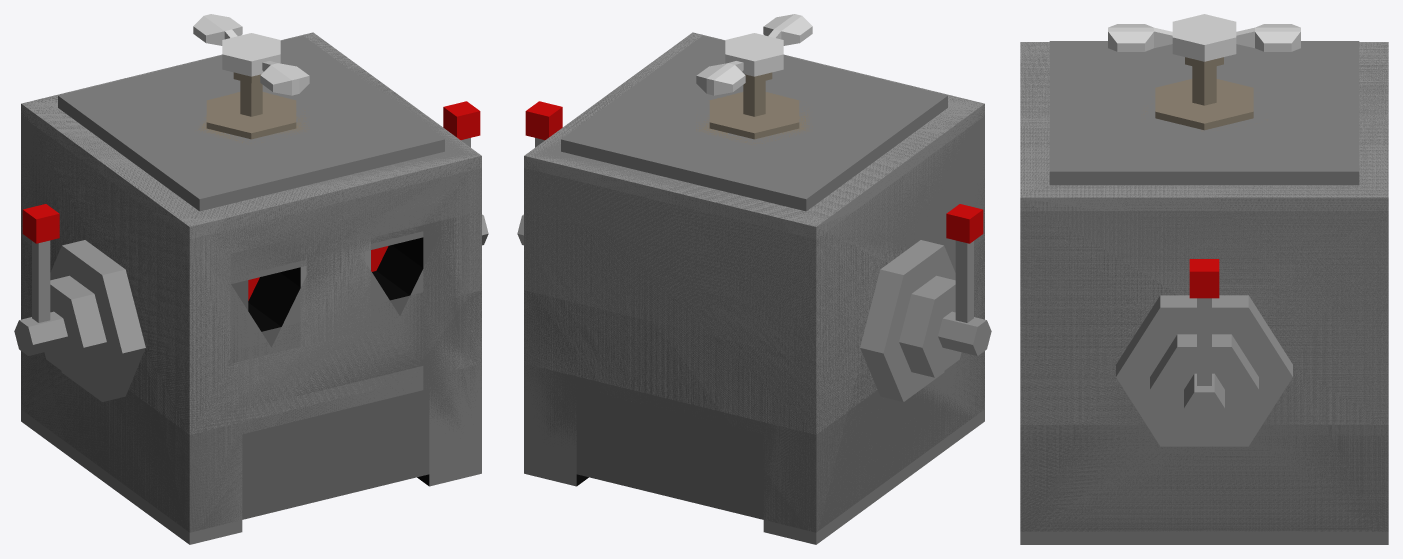
Rendered from Robot heads.fbx.
3 renders of one model, left to right at view 1: azimuth 30°, elevation 25°; view 2: azimuth 150°, elevation 25°; view 3: azimuth 270°, elevation 25°, orthographic. The views are drawn at different scales.
Visible parts, largest first — view 1: Angie, Tom, Bobby, Jack, Fan; view 2: Tom, Angie, Jack, Bobby, Fan; view 3: Angie, Tom, Jack, Bobby, Fan.
Boxes of the visible parts, x1,y1,x2,y2 form: Angie: [14, 101, 488, 544]; Tom: [21, 32, 481, 532]; Bobby: [21, 33, 481, 532]; Jack: [21, 32, 481, 434]; Fan: [193, 14, 309, 95]; Tom: [524, 33, 984, 532]; Angie: [517, 101, 991, 544]; Jack: [524, 32, 984, 434]; Bobby: [524, 33, 984, 531]; Fan: [696, 14, 812, 95]; Angie: [1020, 211, 1388, 544]; Tom: [1020, 41, 1388, 531]; Jack: [1020, 42, 1388, 424]; Bobby: [1020, 42, 1388, 531]; Fan: [1108, 14, 1300, 61].
Bounding box in the file's own units: 39 × 36.6 × 25.
